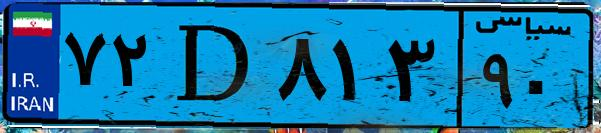0: (525, 38, 570, 115)
1: (330, 28, 385, 110)
2: (110, 28, 158, 98)
3: (385, 28, 445, 110)
7: (57, 26, 110, 100)
8: (270, 28, 330, 110)
9: (475, 38, 525, 113)
D: (158, 12, 270, 120)
